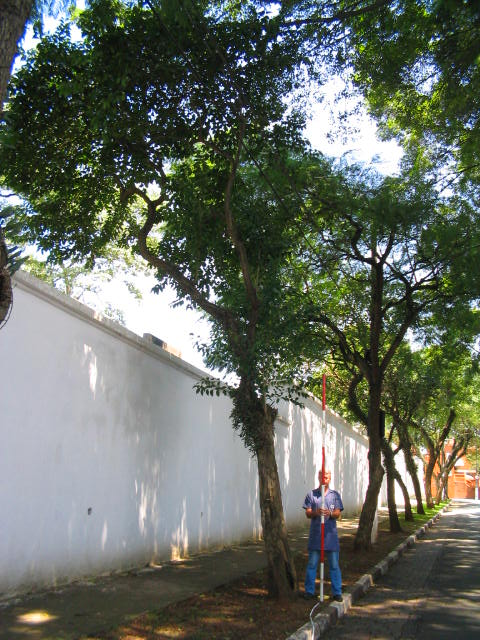crown: (6, 2, 357, 285), (300, 165, 477, 360)
stem: (218, 346, 310, 599), (346, 378, 391, 549)
stick: (313, 373, 332, 602)
tree: (4, 1, 357, 600), (296, 165, 478, 553)
